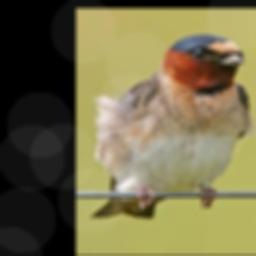Swallow: (89, 33, 255, 220)
